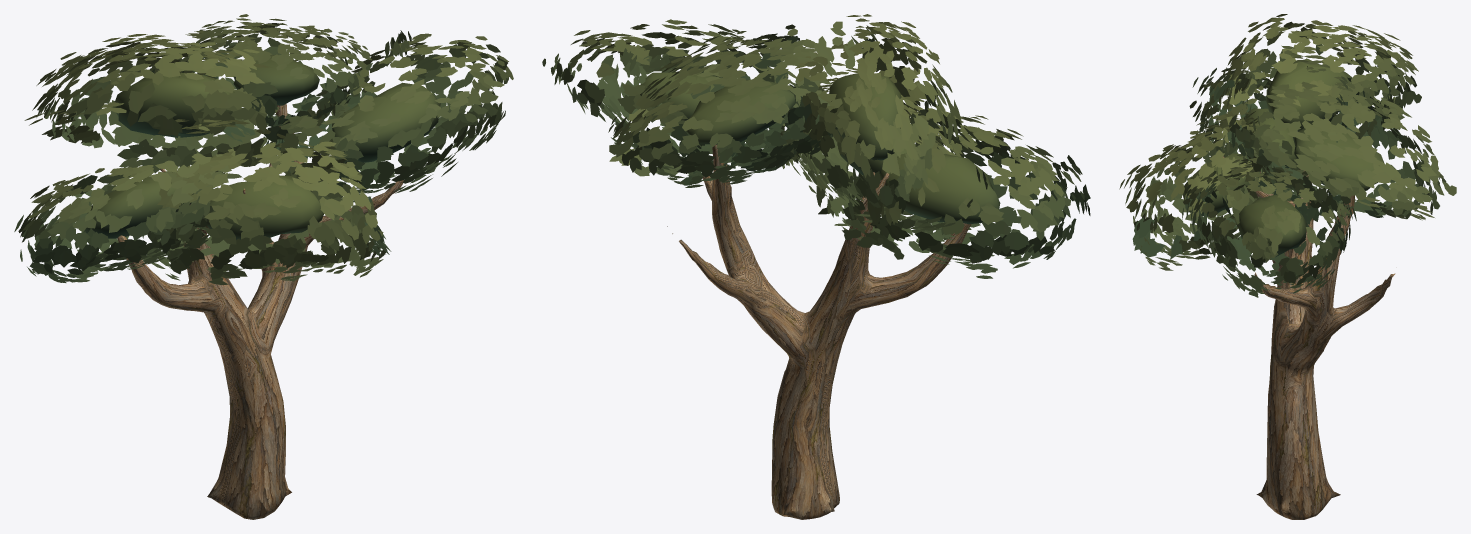
File: valley-grove-oak.glb
The picture shows the model from 3 angles, left to right: view 1: azimuth 30°, elevation 25°; view 2: azimuth 150°, elevation 25°; view 3: azimuth 270°, elevation 25°; orthographic projection. The views are drawn at different scales.
Visible parts, largest first — view 1: grove-crown-foliage, grove-living-wood; view 2: grove-crown-foliage, grove-living-wood; view 3: grove-crown-foliage, grove-living-wood.
Part boxes in pixels (x1=…): grove-crown-foliage: x1=14, y1=14, x2=513, y2=284; grove-living-wood: x1=117, y1=103, x2=403, y2=519; grove-crown-foliage: x1=542, y1=14, x2=1090, y2=278; grove-living-wood: x1=667, y1=144, x2=971, y2=519; grove-crown-foliage: x1=1119, y1=14, x2=1456, y2=297; grove-living-wood: x1=1223, y1=156, x2=1395, y2=519.
Bounding box in the file's own units: 8.4 × 7.77 × 5.24.
2 materials, 1 textured.
